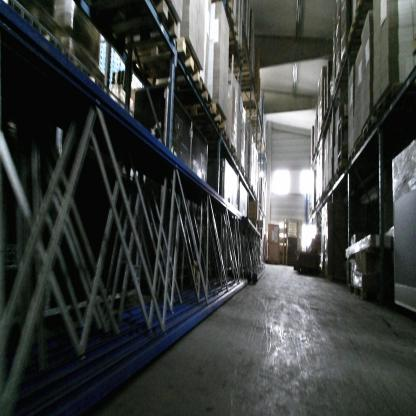pallet: (17, 2, 101, 58), (94, 2, 182, 44), (128, 40, 202, 85), (49, 33, 106, 85), (177, 103, 226, 130), (153, 82, 209, 105), (375, 81, 406, 122), (339, 23, 365, 71), (360, 116, 386, 145), (350, 284, 388, 301), (221, 15, 240, 44), (227, 69, 254, 88), (353, 3, 373, 26), (332, 72, 354, 86), (354, 139, 369, 153), (220, 129, 230, 150), (335, 162, 346, 175), (348, 149, 355, 166), (331, 176, 338, 191), (231, 143, 237, 156), (239, 163, 245, 175), (235, 156, 241, 166), (245, 172, 249, 183), (248, 178, 251, 189)
